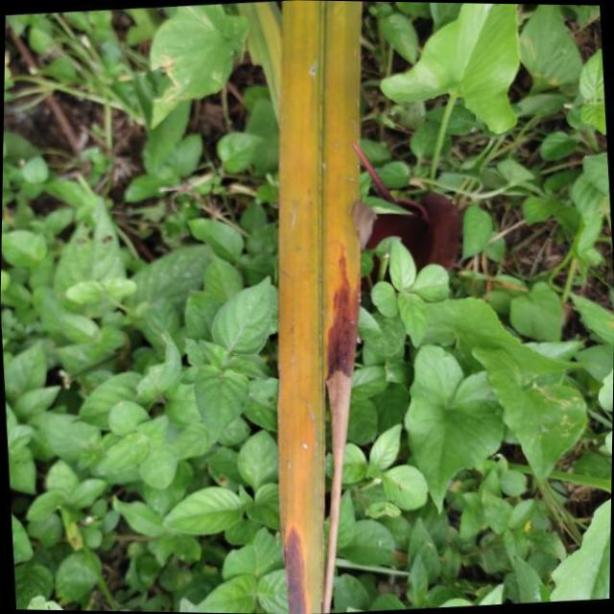Megnesium: (271, 1, 361, 614)
